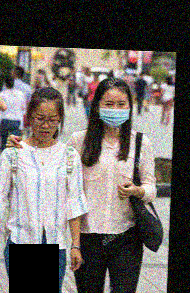with_mask: (97, 98, 131, 129)
without_mask: (28, 111, 59, 142)
